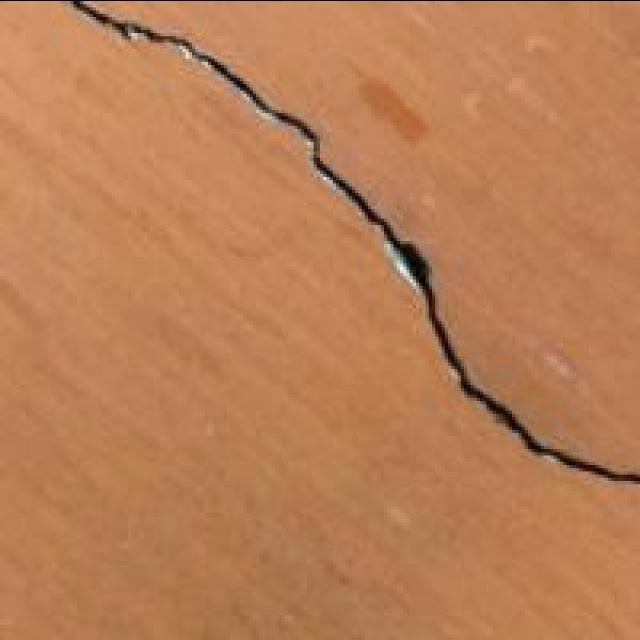SurfaceCrack: (52, 0, 640, 502)
